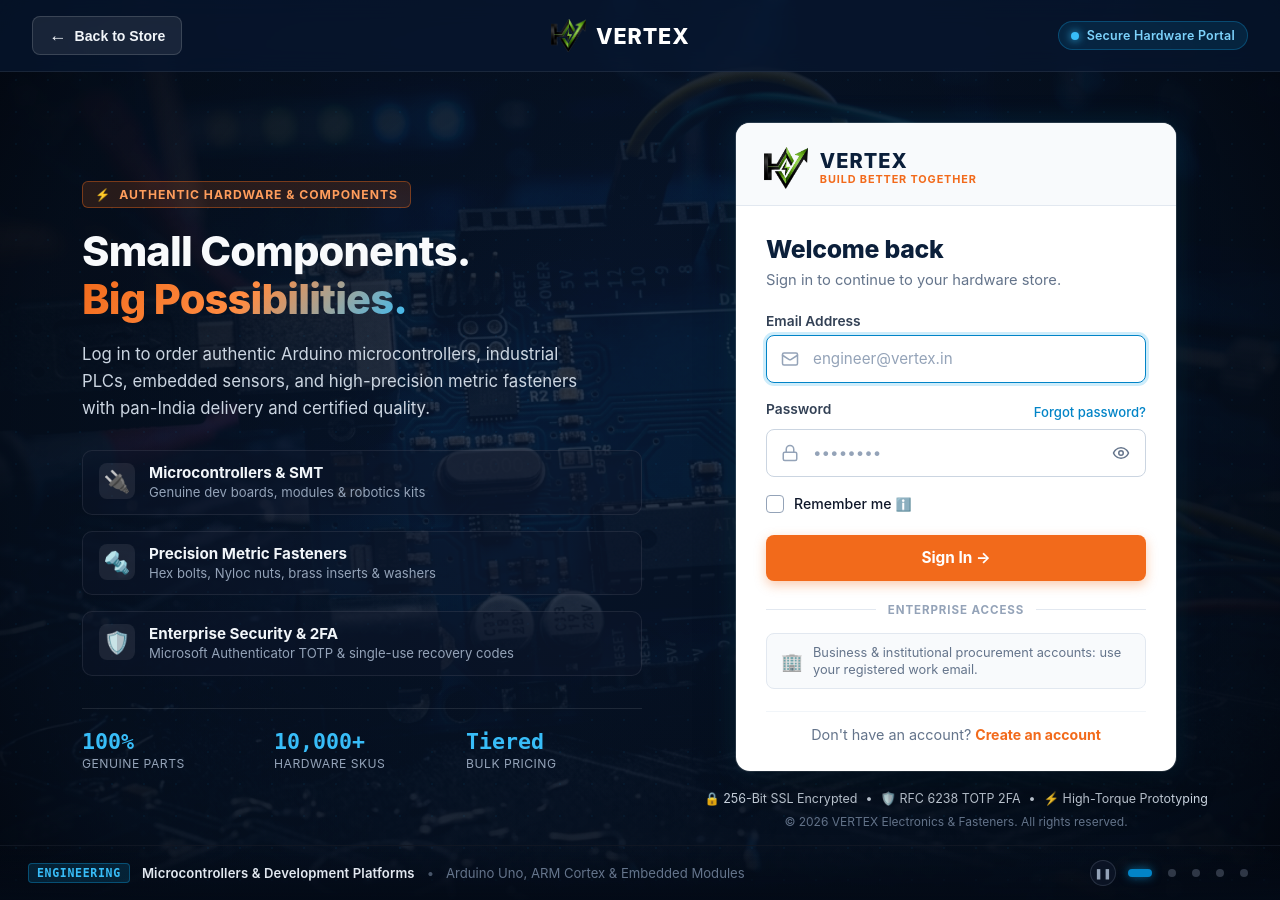
VERTEX Redesigned LoginPage Component › 3. Validates required email and password fields on empty submission
The image size is (1280, 900).
// Submit empty form
Click the button "Sign In →" at (956, 558), box [766, 535, 1146, 581]
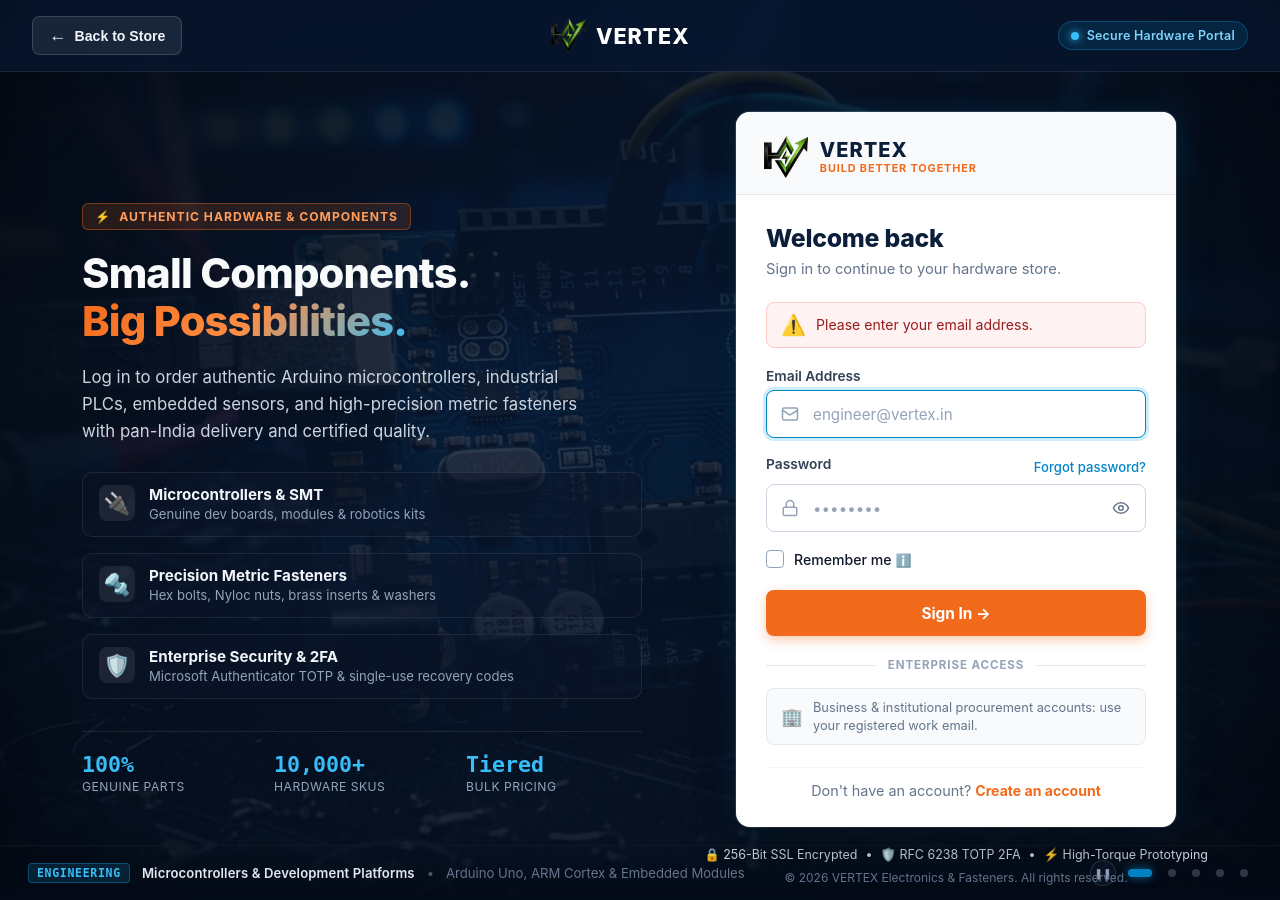
Expected: the message "⚠️ Please enter your email address." is shown, [766, 302, 1146, 348]
Expected: the message shows "Please enter your email address", [816, 316, 1033, 333]
// Fill invalid email without password
Type "invalid-email" into the field labelled "Email Address" at (956, 414), box [766, 390, 1146, 438]
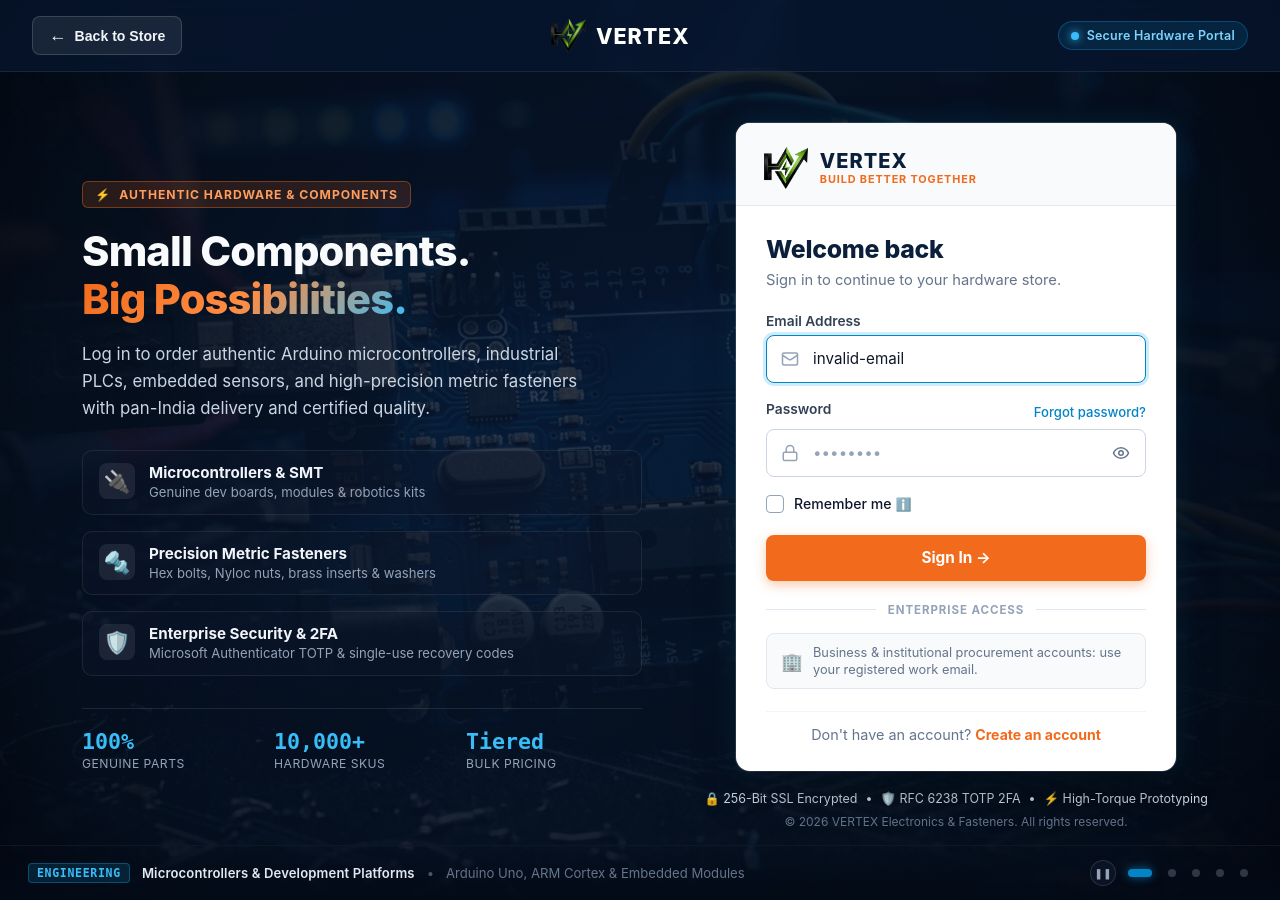
Click the button "Sign In →" at (956, 558), box [766, 535, 1146, 581]
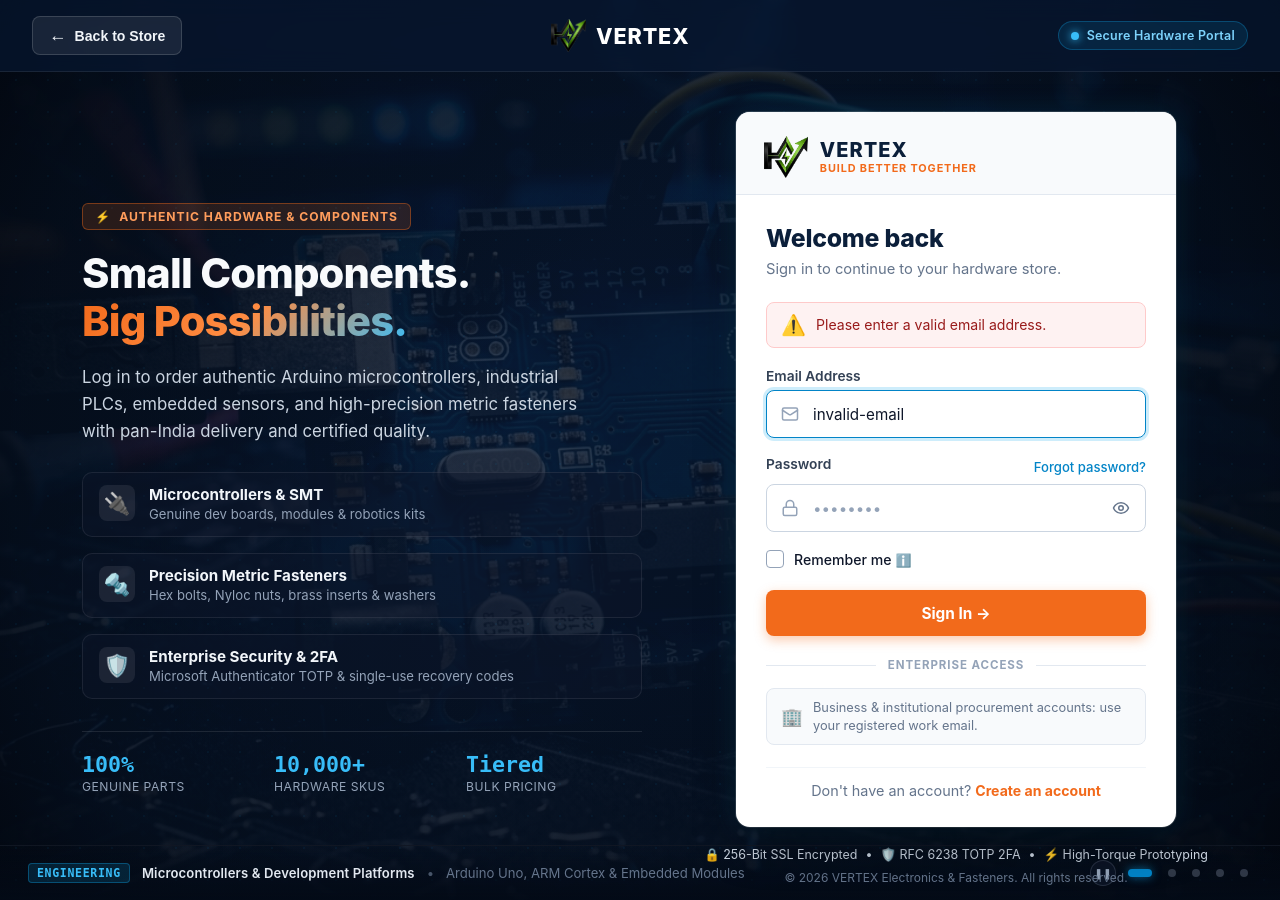
Expected: the message shows "Please enter a valid email address", [816, 316, 1046, 333]
